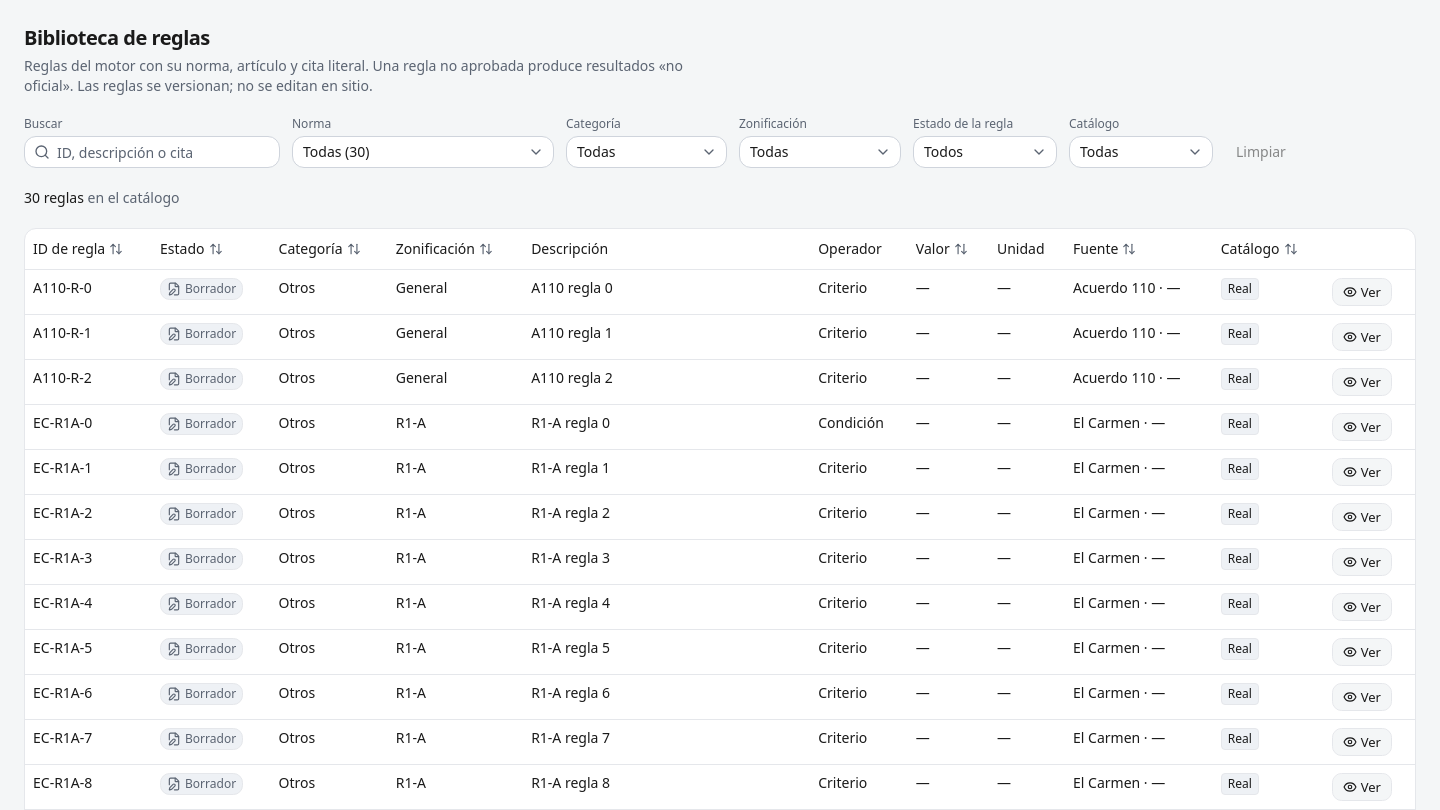
Test: RulesView con el catálogo real › muestra el total del catálogo y filtra por norma con el conteo de cada una
This screenshot has width=1440, height=810.
expect the message reads "30 reglas en el catálogo": met, box top-left (24, 188), bottom-right (180, 207)
Select "El Carmen (20)" in the dropdown labelled "Norma" at [423, 152], box top-left (292, 136), bottom-right (554, 168)
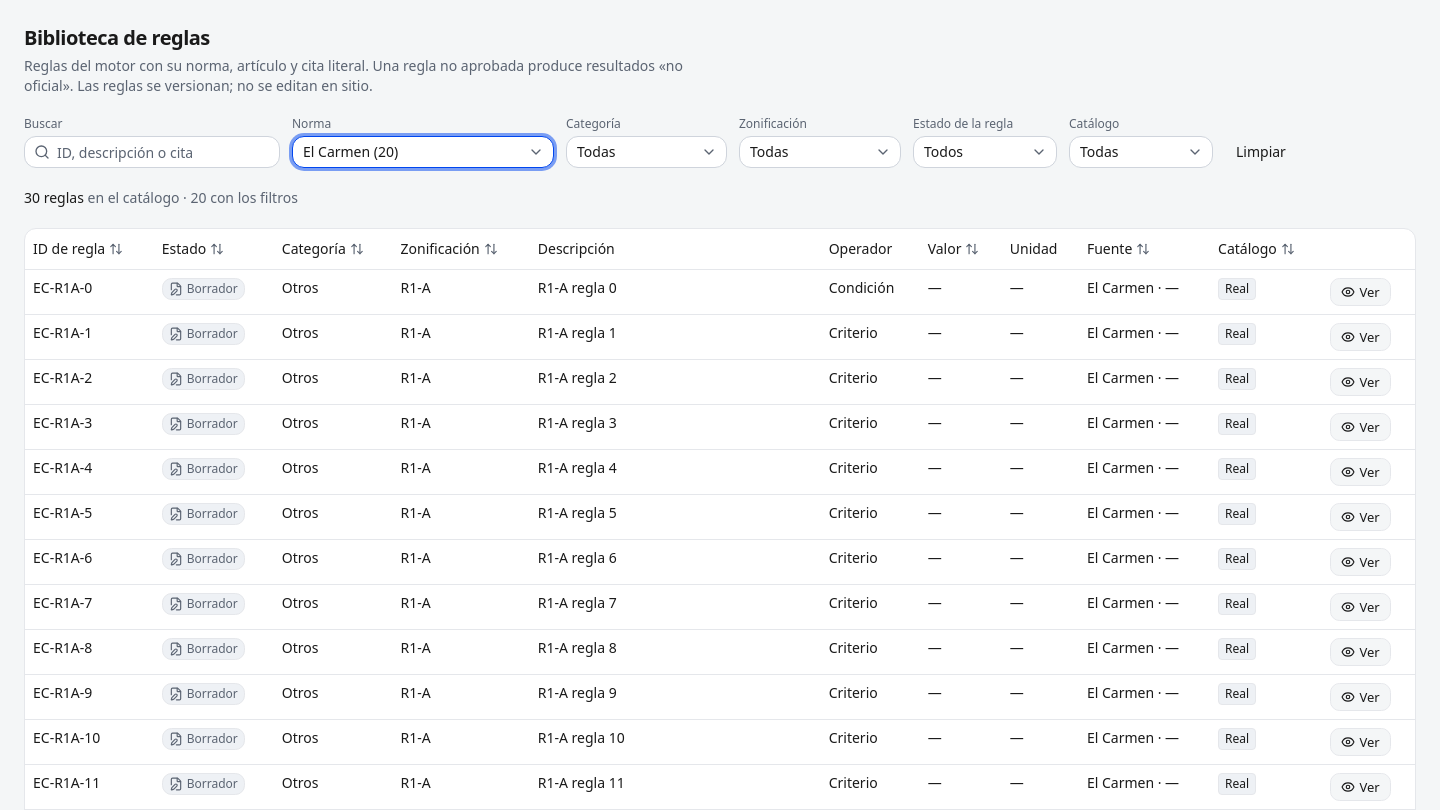
expect the message reads "30 reglas en el catálogo · 20 con los filtros": met, box top-left (24, 188), bottom-right (298, 207)
expect the text "Condición" is shown: met, box top-left (821, 270), bottom-right (920, 314)
